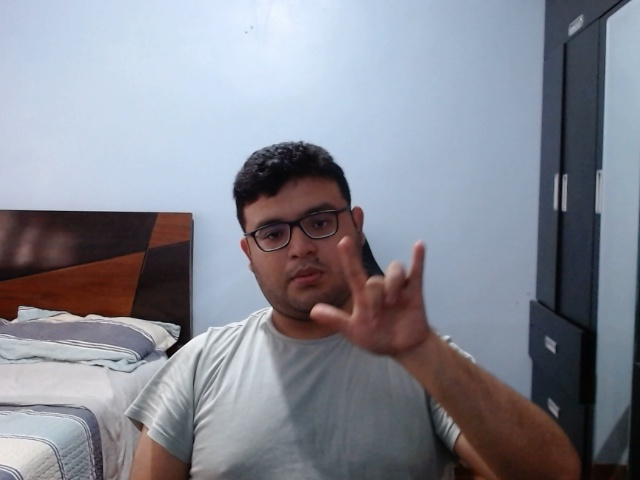I love you: (310, 234, 435, 359)
